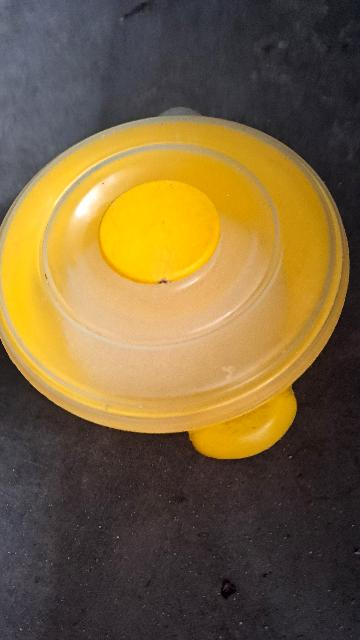hardplastic: (0, 89, 360, 469)
